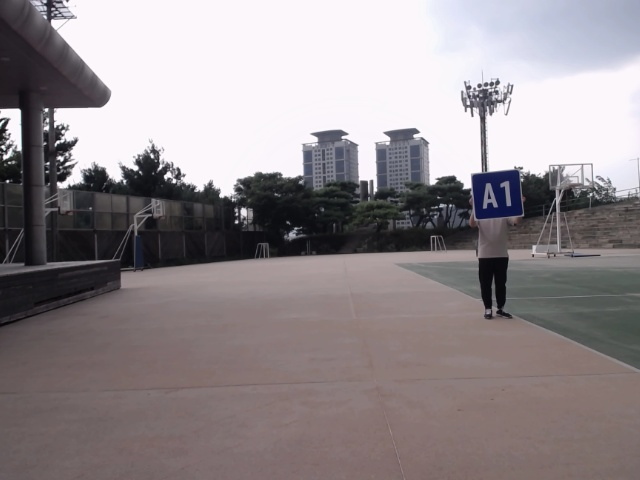delivery_a1: (471, 170, 524, 220)
